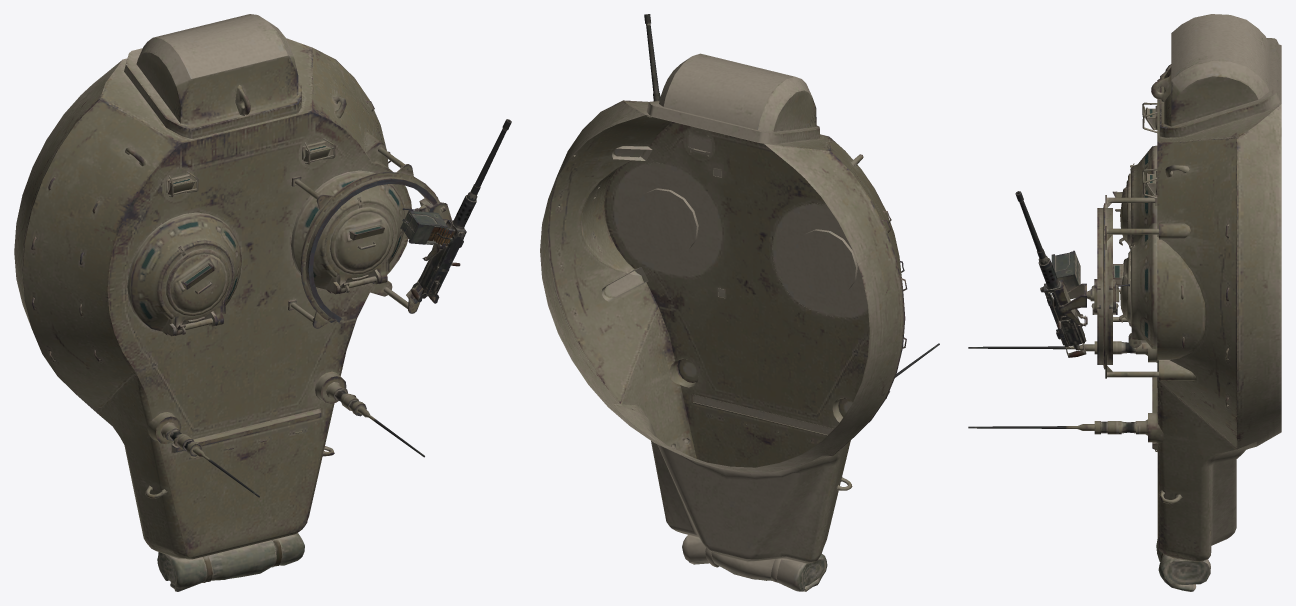
The model's file is Turret_01.glb.
The picture shows the model from 3 angles, left to right: view 1: azimuth 30°, elevation 25°; view 2: azimuth 150°, elevation 25°; view 3: azimuth 270°, elevation 25°; orthographic projection. The views are drawn at different scales.
Visible parts, largest first — view 1: set_0_group_0; view 2: set_0_group_0; view 3: set_0_group_0.
Part boxes in pixels (box(x1,y1,x2,y2)): set_0_group_0: box(14, 14, 511, 591); set_0_group_0: box(540, 14, 939, 591); set_0_group_0: box(968, 14, 1281, 591).
Bounding box in the file's own units: 3.03 × 4.1 × 2.2.
Materials: 1 (1 with a texture image).
